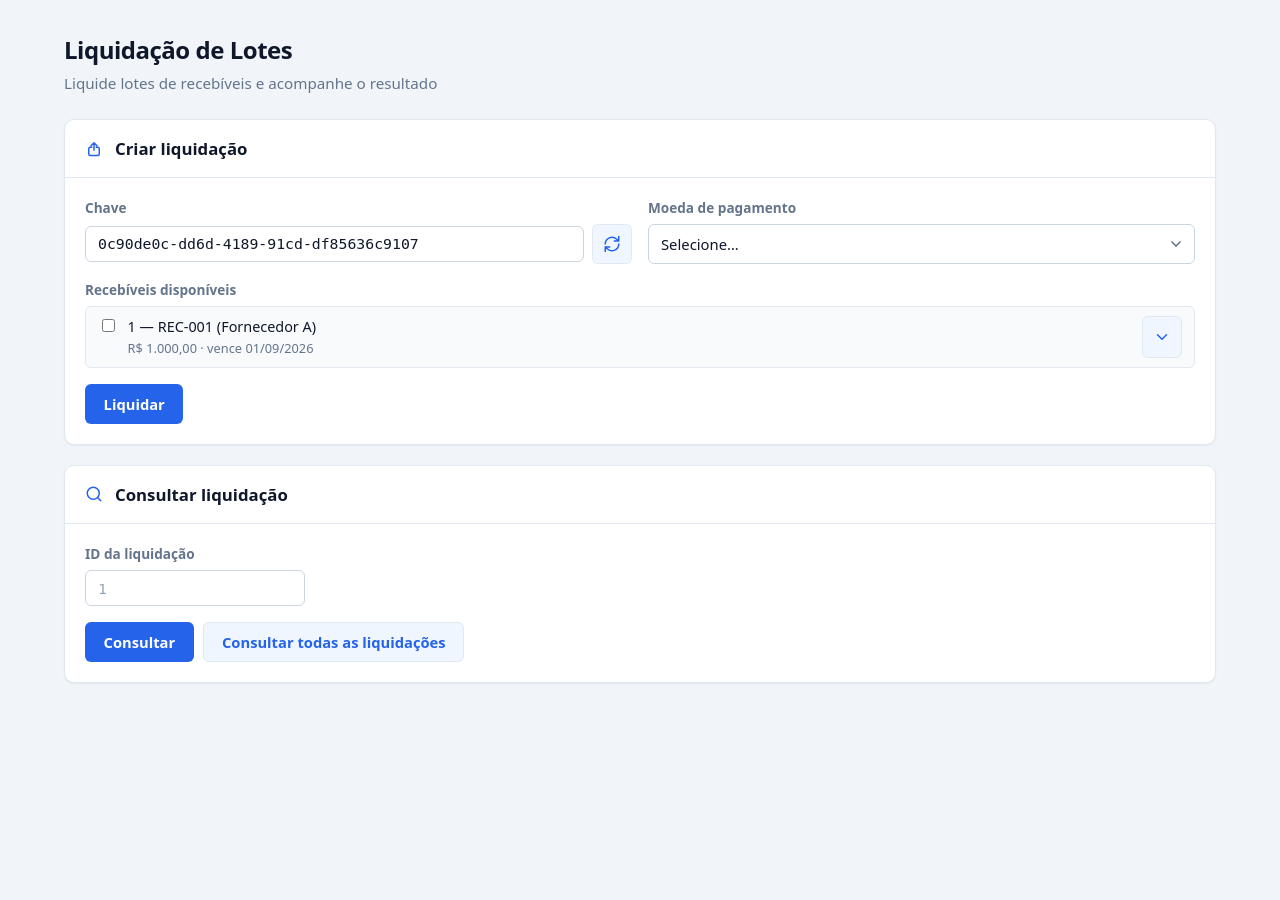
LiquidacaoPage › creates a liquidation with a selected receivable
Step 1. Select "BRL" in the dropdown labelled "Moeda de pagamento" → (922, 244), box x1=648 y1=224 x2=1195 y2=264
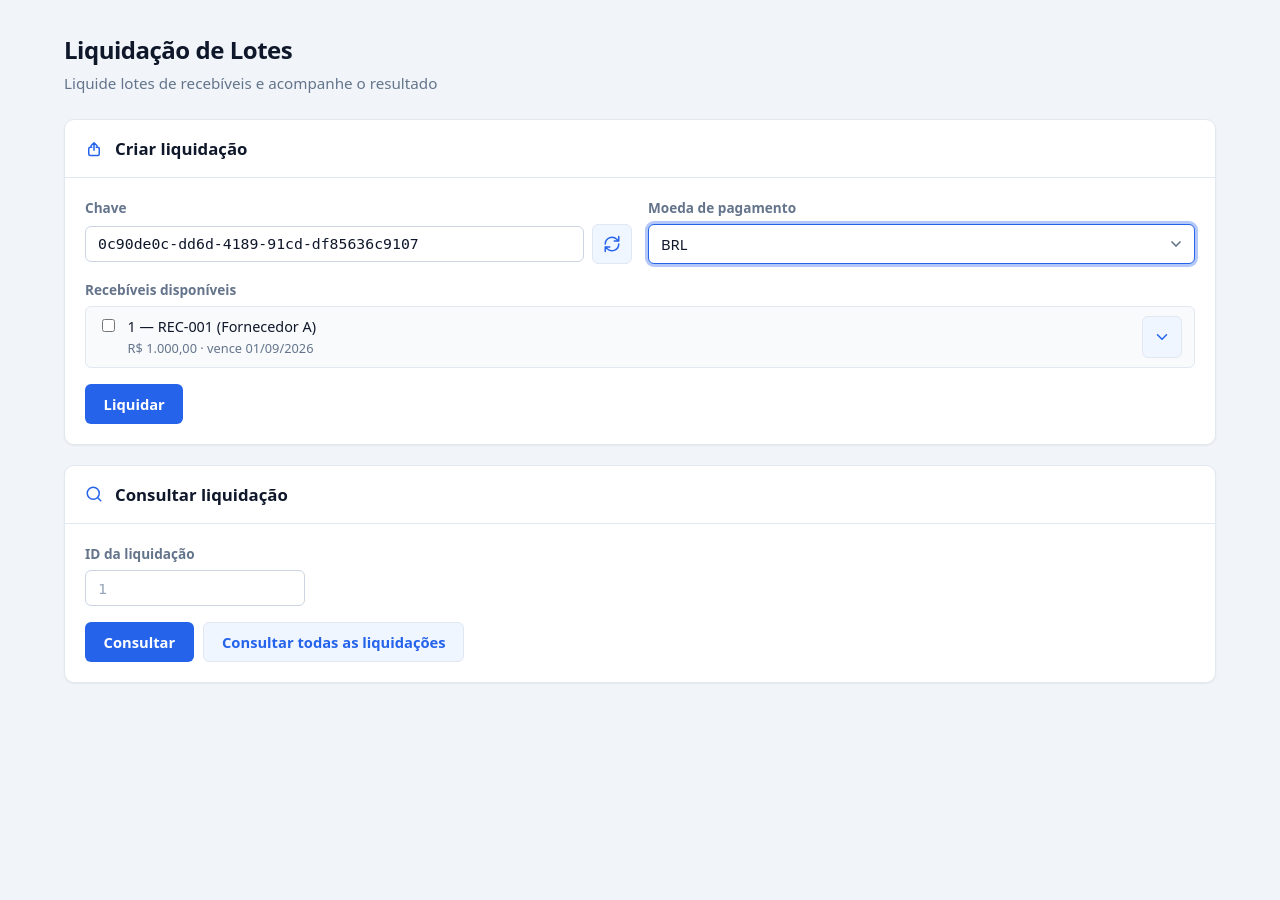
Step 2. Click the checkbox labelled "1 — REC-001 (Fornecedor A) R$ 1.000,00 · vence 01/09/2026" → click(108, 325), box x1=102 y1=319 x2=115 y2=332
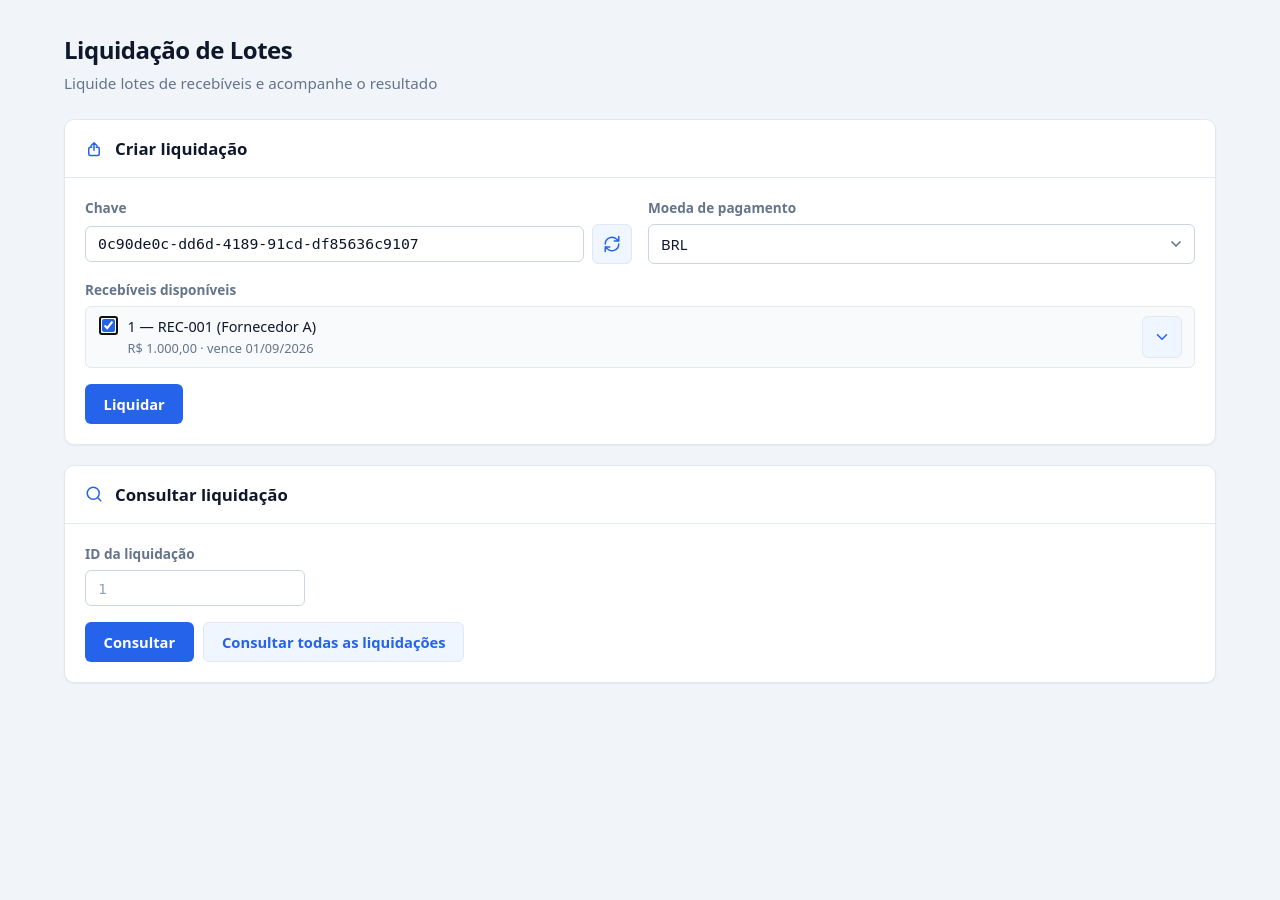
Step 3. Click the button "Liquidar" → click(134, 404), box x1=85 y1=384 x2=183 y2=424
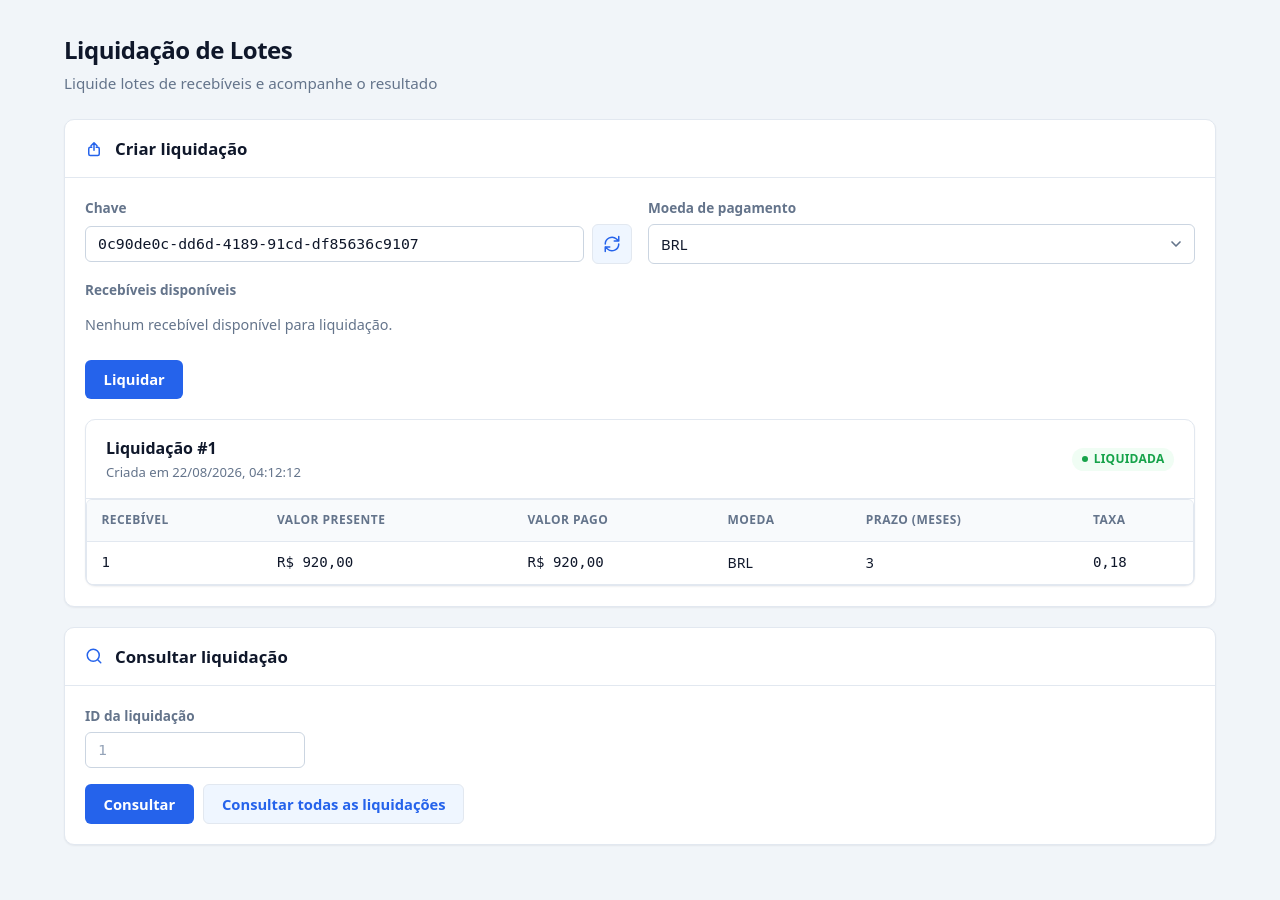
Expected: the element with test id "liquidacao-resultado" shows "LIQUIDADA", x1=1094 y1=450 x2=1164 y2=467
Expected: the heading "Liquidação #1" is shown, x1=106 y1=437 x2=217 y2=459
Expected: the text labelled "1 — REC-001" is gone
